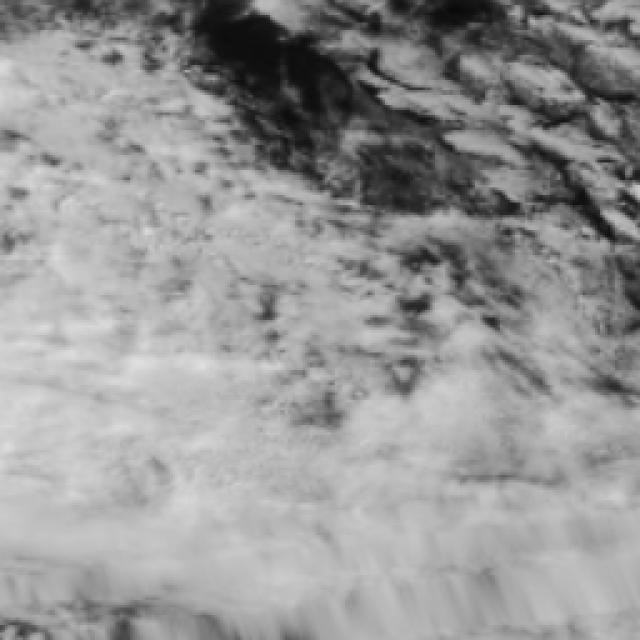CB: (0, 432, 258, 604), (462, 412, 640, 633), (270, 433, 472, 608), (0, 262, 193, 435)
